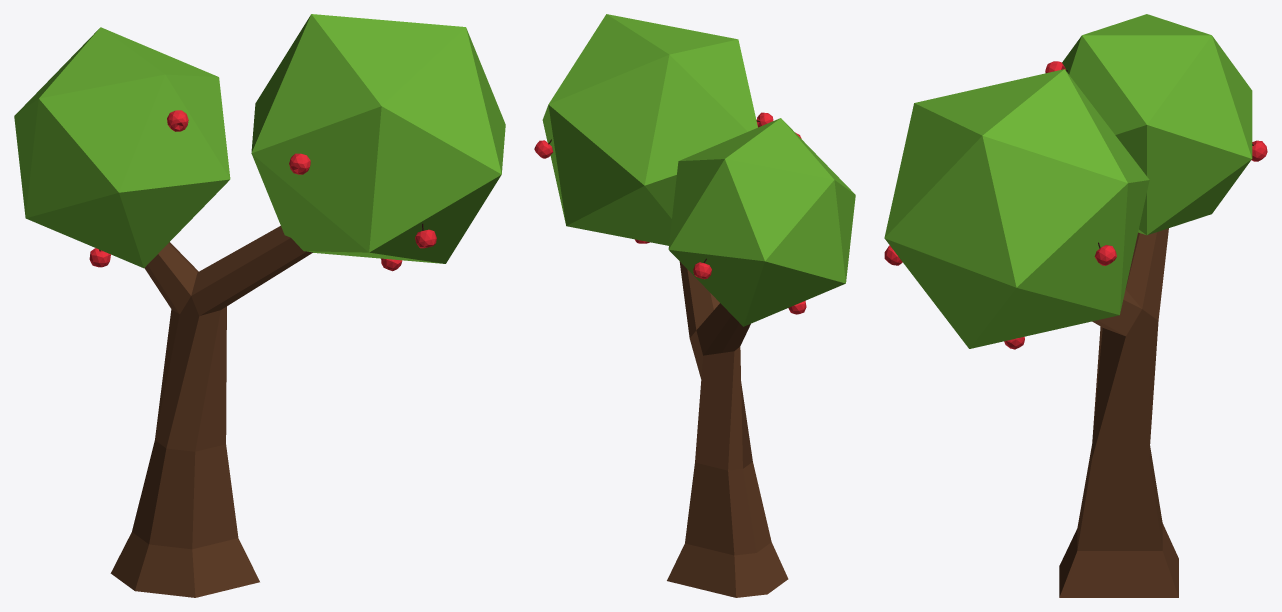
Rendered from Tree6.glb.
3 renders of one model, left to right at view 1: azimuth 30°, elevation 25°; view 2: azimuth 150°, elevation 25°; view 3: azimuth 270°, elevation 25°, orthographic. The views are drawn at different scales.
Visible parts, largest first — view 1: Tree6; view 2: Tree6; view 3: Tree6.
Part boxes in pixels (box(x1,y1,x2,y2)): Tree6: box(14, 14, 505, 597); Tree6: box(534, 14, 855, 597); Tree6: box(884, 14, 1267, 597).
Size of the model in its own units: 3.64 by 4.63 by 2.89.
